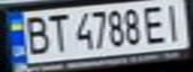4: (72, 9, 93, 51)
7: (90, 7, 109, 50)
8: (121, 4, 145, 47), (106, 7, 127, 47)
B: (18, 12, 51, 55)
E: (139, 2, 169, 45)
I: (160, 1, 190, 43)
T: (45, 11, 72, 53)
